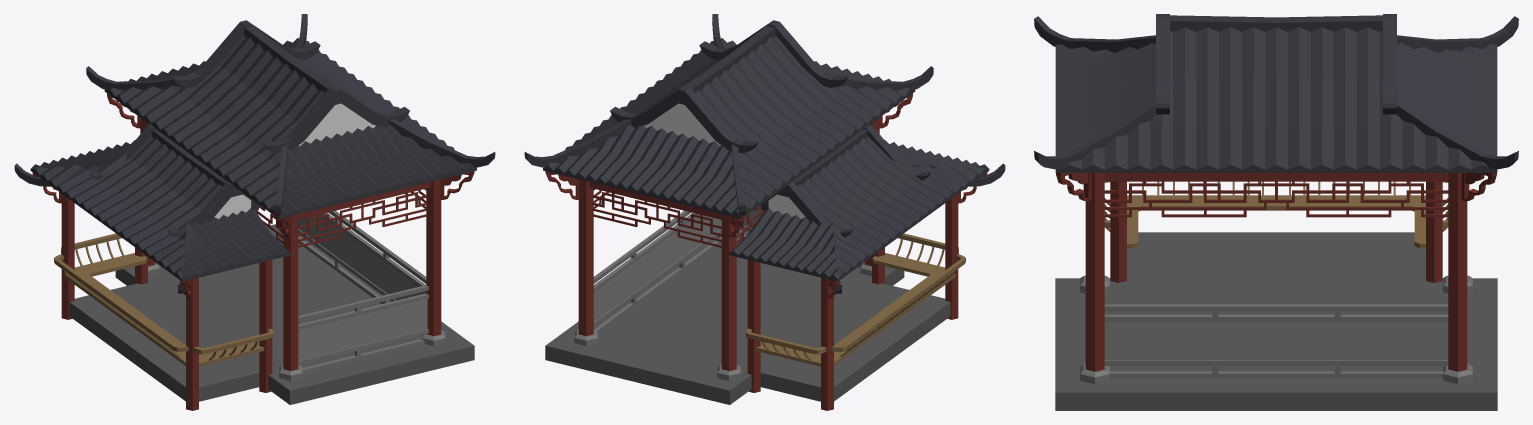
The picture shows the model from 3 angles, left to right: view 1: azimuth 30°, elevation 25°; view 2: azimuth 150°, elevation 25°; view 3: azimuth 270°, elevation 25°; orthographic projection. The views are drawn at different scales.
Parts seen in each view (by area): view 1: dieting; view 2: dieting; view 3: dieting.
Boxes of the visible parts, x1,y1,x2,y2 form: dieting: (14,14,495,410); dieting: (524,14,1005,410); dieting: (1034,14,1518,410).
Size of the model in its own units: 640 by 535 by 693.
